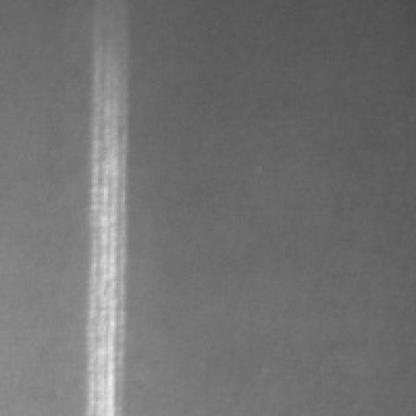scratches: (77, 19, 127, 412)
